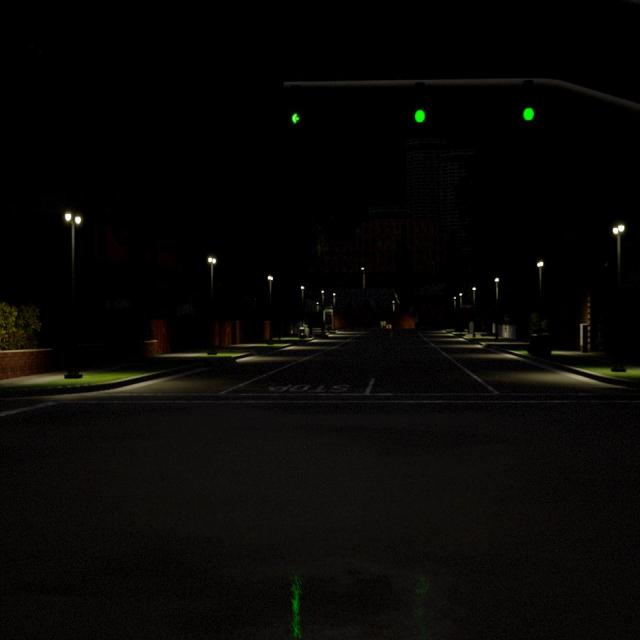traffic_light: (522, 81, 535, 122), (414, 81, 426, 125), (290, 86, 301, 123)
